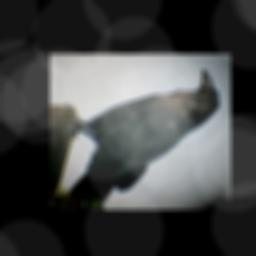Crow: (57, 62, 224, 209)
